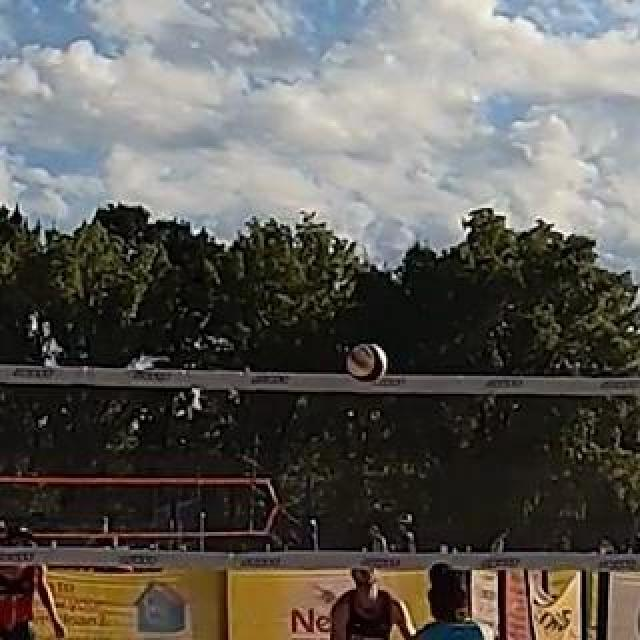volleyball: (346, 343, 386, 381)
